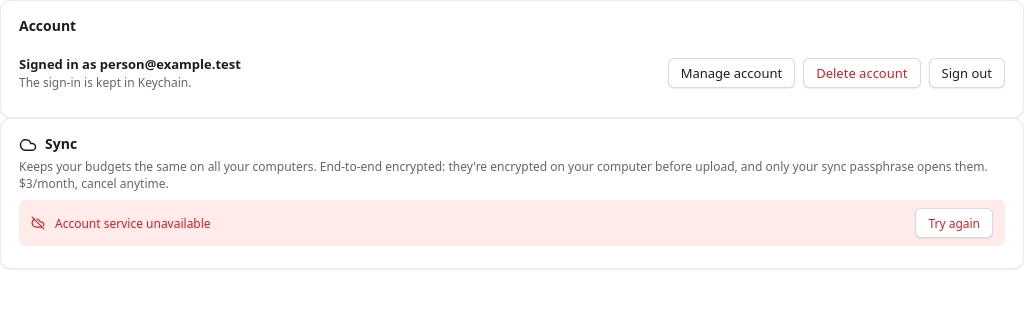
Test: shows account errors with a retry
The image size is (1024, 317).
Expected: the text "Account service unavailable" is shown, [55,215,211,232]
Click the button "Try again" at (954, 223), box [915,208,993,238]
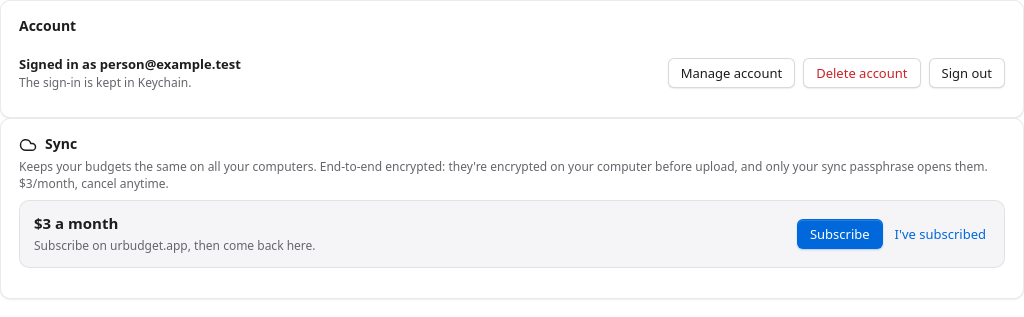
Expected: the text "$3 a month" is shown, [34,213,118,233]
